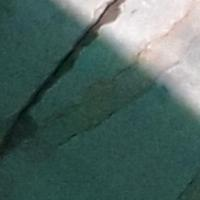crack: (0, 1, 129, 178)
